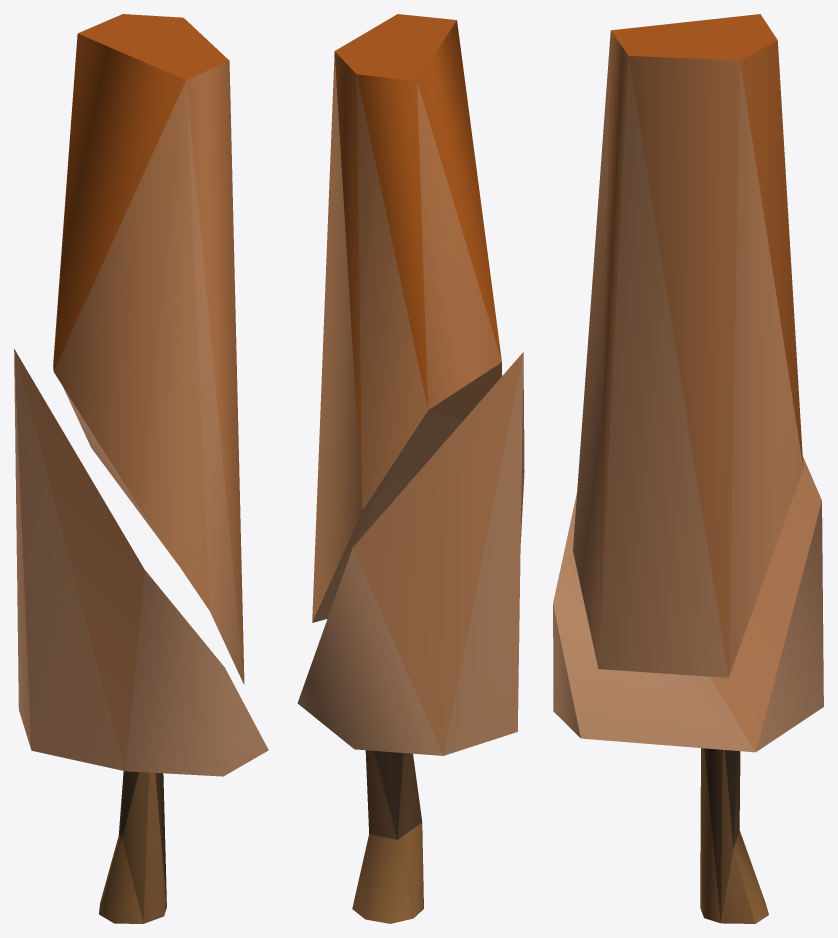
File: angular_tree_spire__autumn_low.glb
The picture shows the model from 3 angles, left to right: view 1: azimuth 30°, elevation 25°; view 2: azimuth 150°, elevation 25°; view 3: azimuth 270°, elevation 25°; orthographic projection. The views are drawn at different scales.
Bounding box in the file's own units: 1.37 × 5.4 × 1.51.
